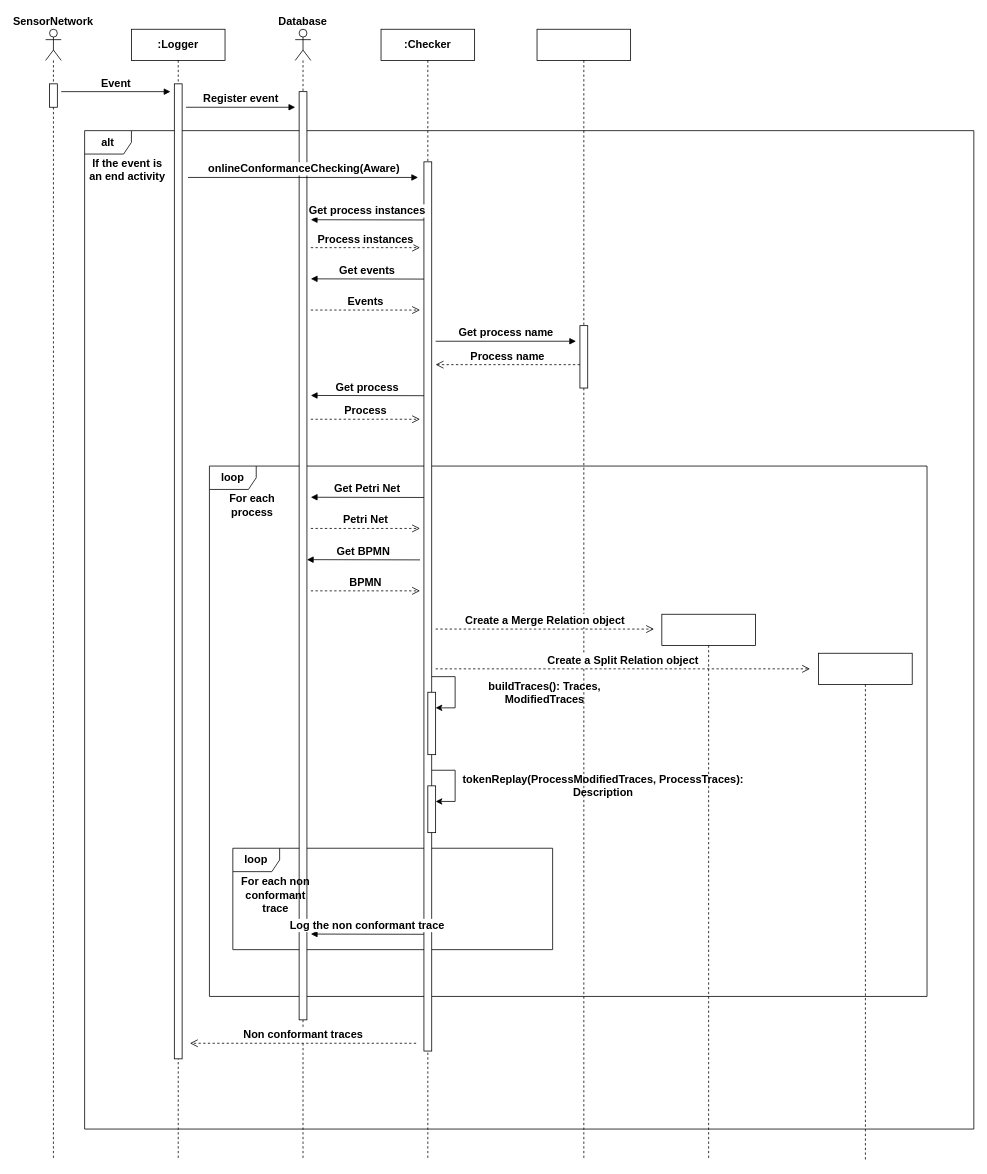
Some shapes in this 987 by 1174 pixel diagram are drawn without their labels. The box of each missing label's shape, as (x1, y1, x2, y2) in pixels:
:MergeRelation: (661, 613, 755, 1160)
:ProcessInstance: (536, 28, 631, 1160)
:SplitRelation: (818, 652, 912, 1160)
